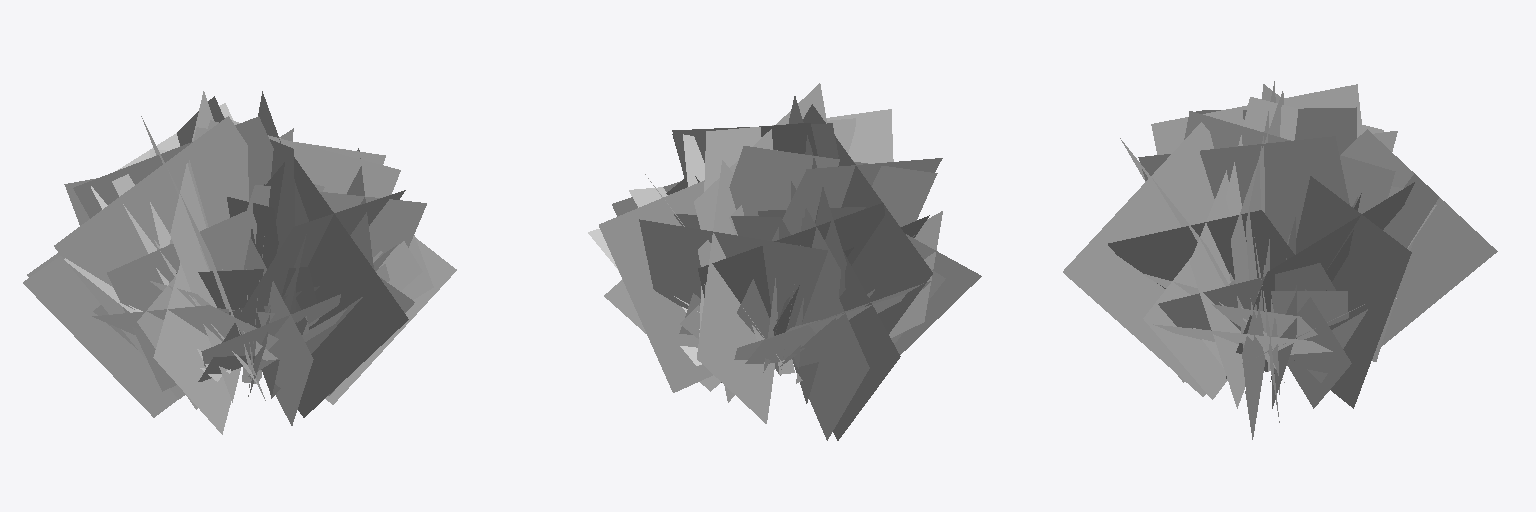
Rendered from bush03.obj.
The picture shows the model from 3 angles: view 1: azimuth 30°, elevation 25°; view 2: azimuth 150°, elevation 25°; view 3: azimuth 270°, elevation 25°; orthographic projection.
Visible parts, largest first — view 1: bush03; view 2: bush03; view 3: bush03.
Part boxes in pixels (x1,y1,x2,y2): bush03: (23,91,456,434); bush03: (588,83,981,440); bush03: (1063,81,1497,439).
Size of the model in its own units: 1.28 by 1.03 by 1.32.